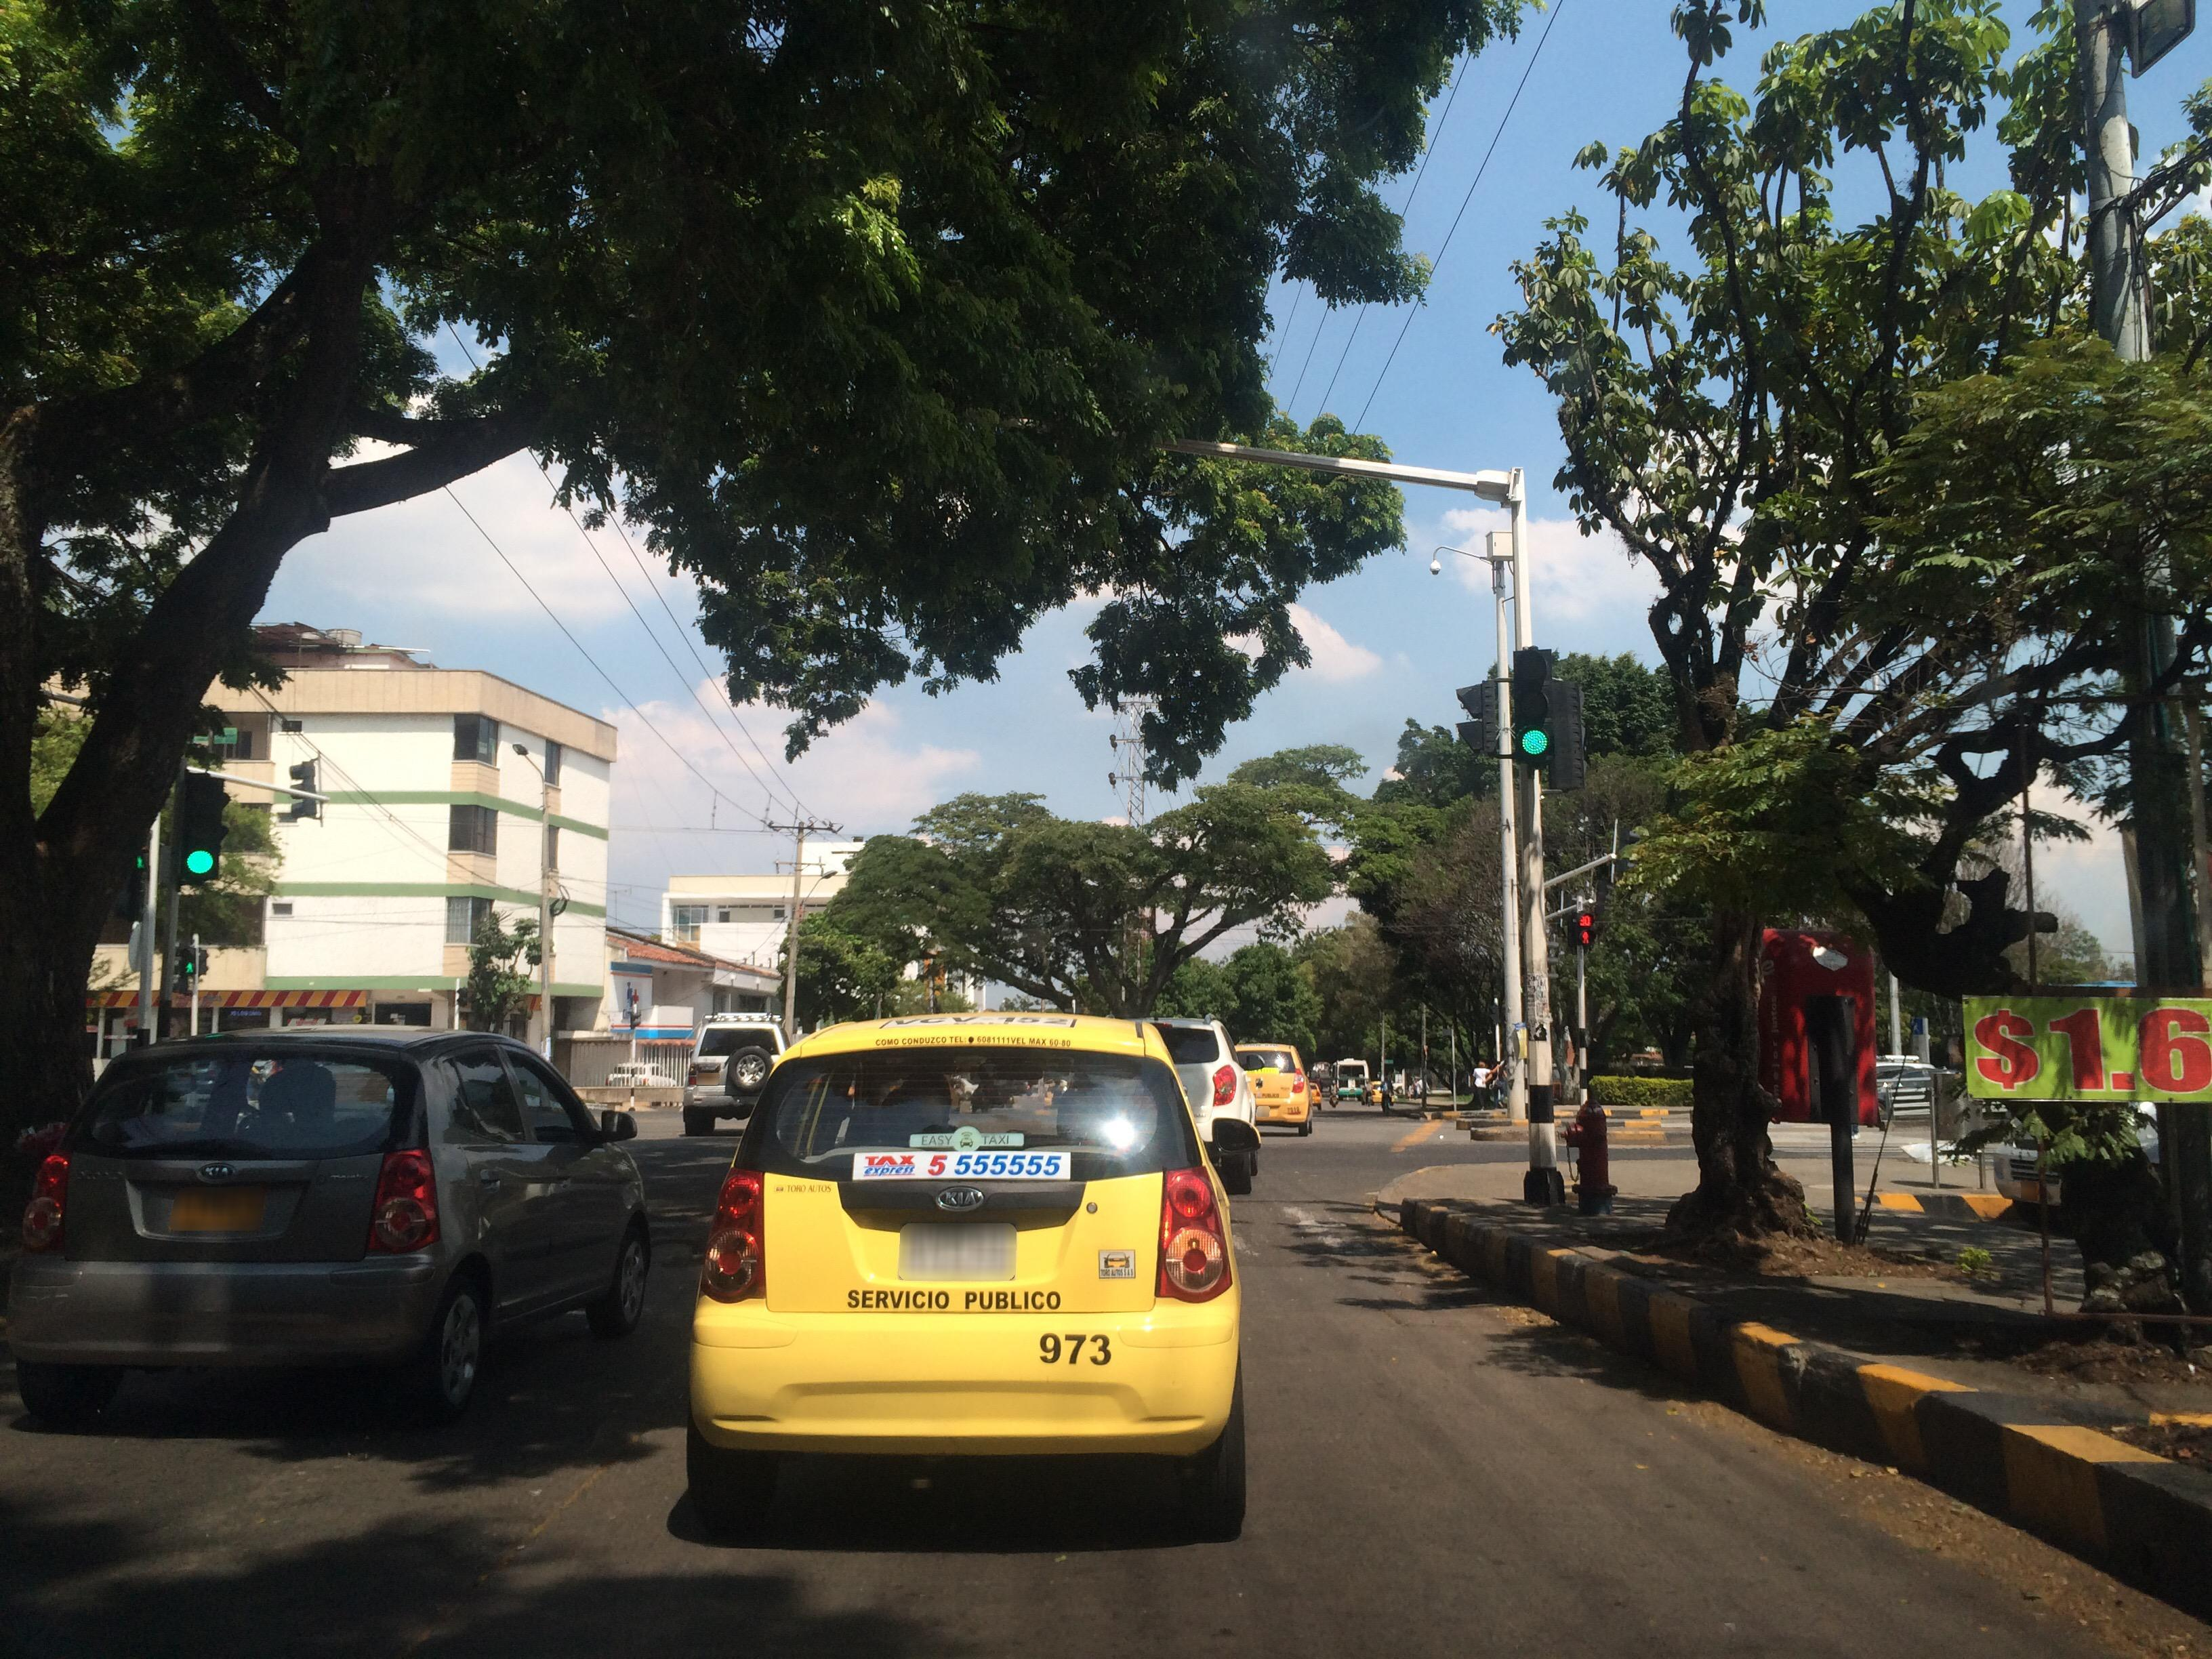vinyl banner: (1942, 958, 2212, 1129)
